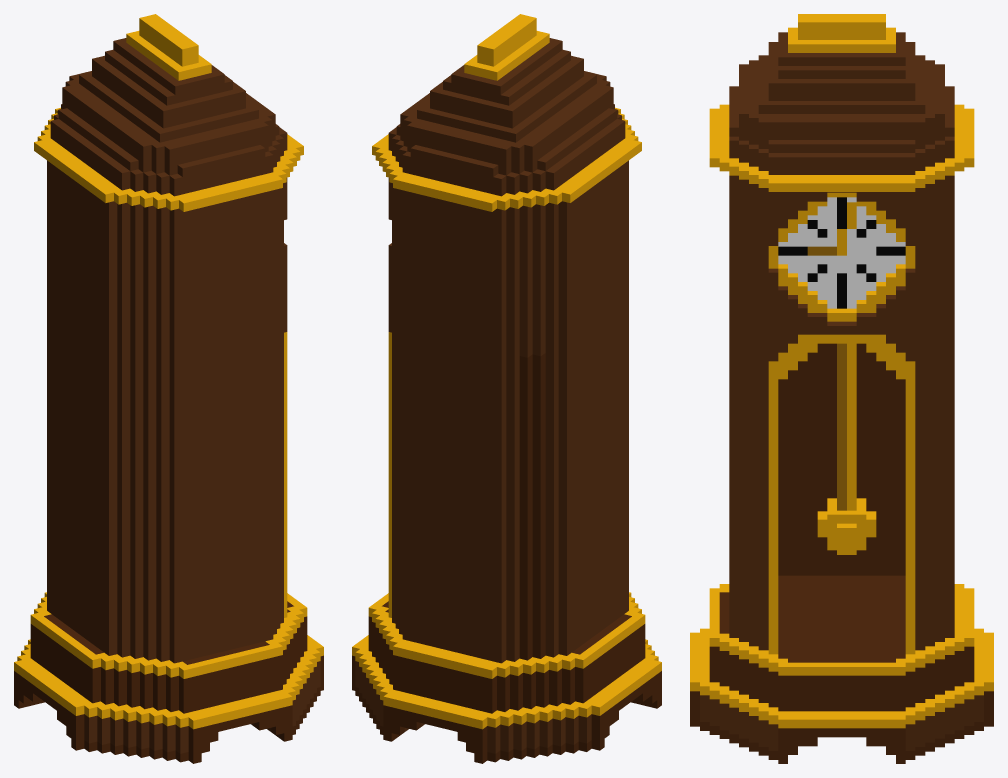
The model's file is jam classic.obj.
3 views of the same model, side by side, from view 1: azimuth 30°, elevation 25°; view 2: azimuth 150°, elevation 25°; view 3: azimuth 270°, elevation 25° (orthographic). The views are drawn at different scales.
Size of the model in its own units: 3 by 7.7 by 3.1.
1 material, 1 textured.
